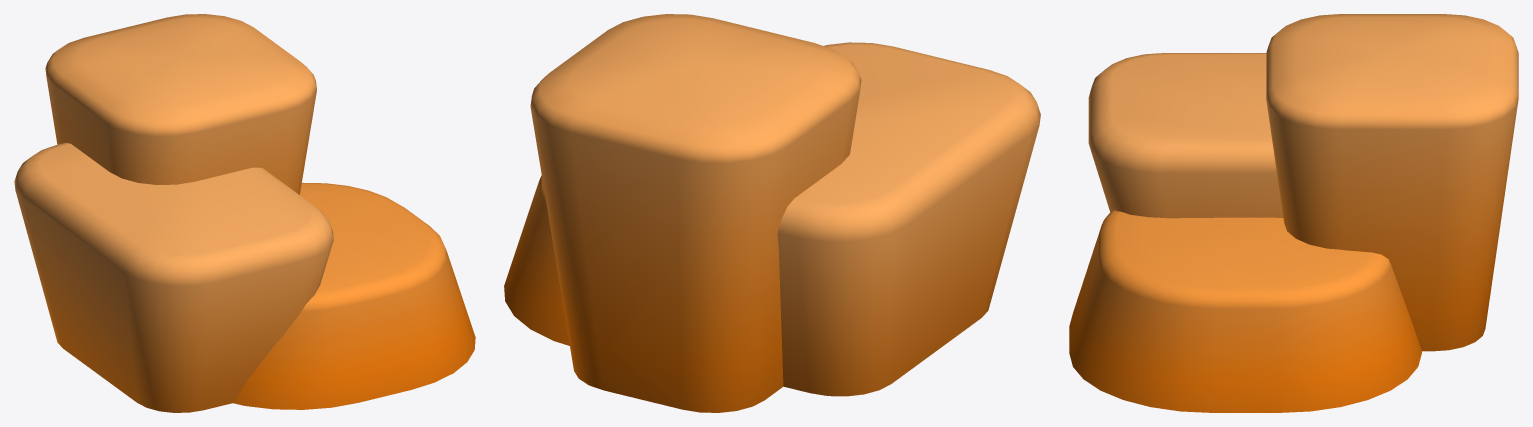
The model's file is Rock_A_05.fbx.
3 renders of one model, left to right at view 1: azimuth 30°, elevation 25°; view 2: azimuth 150°, elevation 25°; view 3: azimuth 270°, elevation 25°, orthographic. The views are drawn at different scales.
Visible parts, largest first — view 1: Rock_A_05; view 2: Rock_A_05; view 3: Rock_A_05.
Part boxes in pixels (bbox=[...]): Rock_A_05: bbox=[14, 14, 475, 412]; Rock_A_05: bbox=[504, 14, 1040, 412]; Rock_A_05: bbox=[1069, 14, 1518, 412].
Size of the model in its own units: 188 by 122 by 190.
